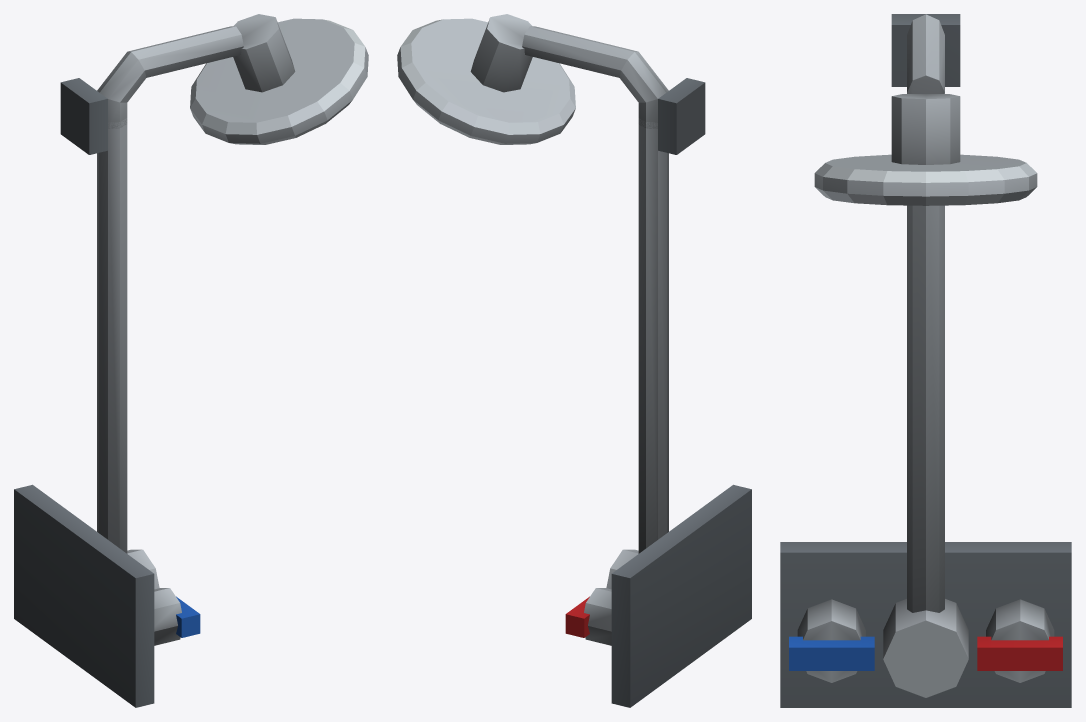
The model's file is shower_head.glb.
3 renders of one model, left to right at view 1: azimuth 30°, elevation 25°; view 2: azimuth 150°, elevation 25°; view 3: azimuth 270°, elevation 25°, orthographic. The views are drawn at different scales.
Parts seen in each view (by area): view 1: Body; view 2: Body; view 3: Body.
Boxes of the visible parts, x1=… form: Body: x1=14, y1=14, x2=368, y2=707; Body: x1=397, y1=14, x2=751, y2=707; Body: x1=780, y1=14, x2=1071, y2=707.
Size of the model in its own units: 0.4549 by 0.922 by 0.34.
